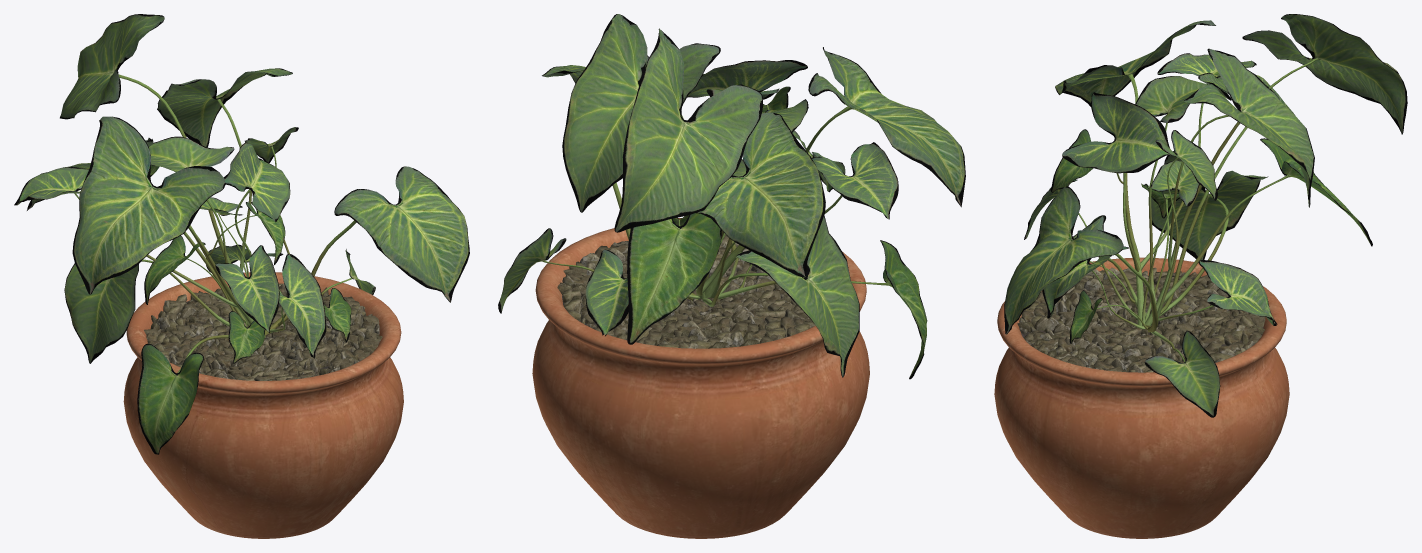
Rendered from potted_plant_02.glb.
3 views of the same model, side by side, from view 1: azimuth 30°, elevation 25°; view 2: azimuth 150°, elevation 25°; view 3: azimuth 270°, elevation 25° (orthographic). The views are drawn at different scales.
Visible parts, largest first — view 1: potted_plant_02_leaves, potted_plant_02_pot, potted_plant_02_dirt; view 2: potted_plant_02_leaves, potted_plant_02_pot, potted_plant_02_dirt; view 3: potted_plant_02_leaves, potted_plant_02_pot, potted_plant_02_dirt.
Part boxes in pixels (box(x1,y1,x2,y2)): potted_plant_02_leaves: box(14, 14, 469, 454); potted_plant_02_pot: box(123, 272, 403, 538); potted_plant_02_dirt: box(144, 283, 382, 380); potted_plant_02_leaves: box(498, 14, 965, 379); potted_plant_02_pot: box(532, 218, 869, 538); potted_plant_02_dirt: box(557, 234, 815, 348); potted_plant_02_leaves: box(1004, 14, 1407, 417); potted_plant_02_pot: box(994, 257, 1289, 538); potted_plant_02_dirt: box(1017, 267, 1265, 372).
Bounding box in the file's own units: 0.7012 × 0.8412 × 0.6635.
2 materials, 2 textured.
